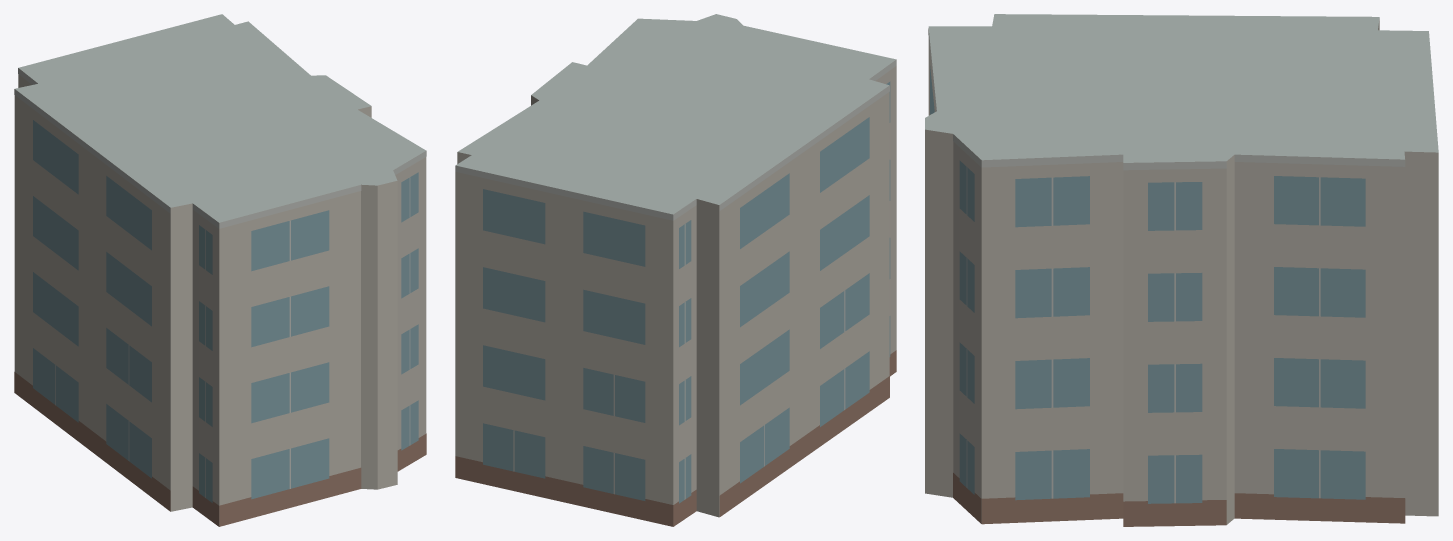
The model's file is survey-upis-32971764.glb.
The picture shows the model from 3 angles, left to right: view 1: azimuth 30°, elevation 25°; view 2: azimuth 150°, elevation 25°; view 3: azimuth 270°, elevation 25°; orthographic projection. The views are drawn at different scales.
Visible parts, largest first — view 1: survey-upis-32971764.tmp; view 2: survey-upis-32971764.tmp; view 3: survey-upis-32971764.tmp.
Boxes of the visible parts, left/top/right/bottom form: survey-upis-32971764.tmp: left=14, top=14, right=426, bottom=526; survey-upis-32971764.tmp: left=455, top=14, right=896, bottom=526; survey-upis-32971764.tmp: left=925, top=14, right=1438, bottom=526.
Size of the model in its own units: 10.7 by 12.18 by 15.59.
